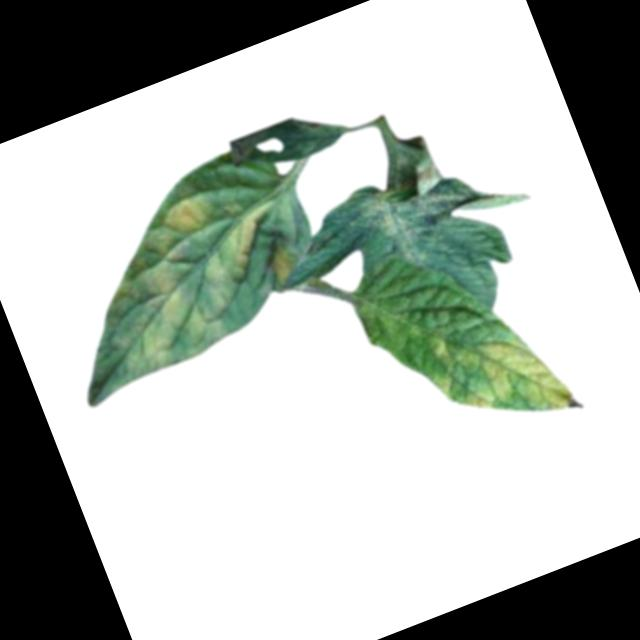Leaf_Mold: (63, 151, 312, 384), (418, 298, 577, 450), (356, 158, 484, 277)
